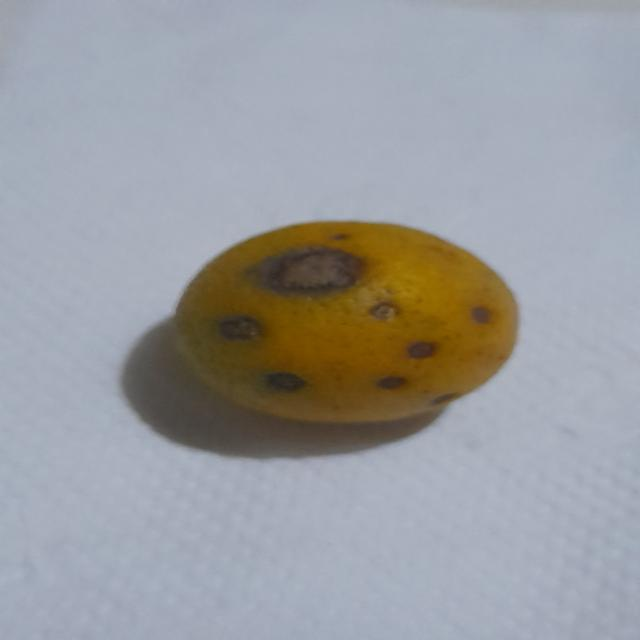black spot: (174, 219, 526, 430)
